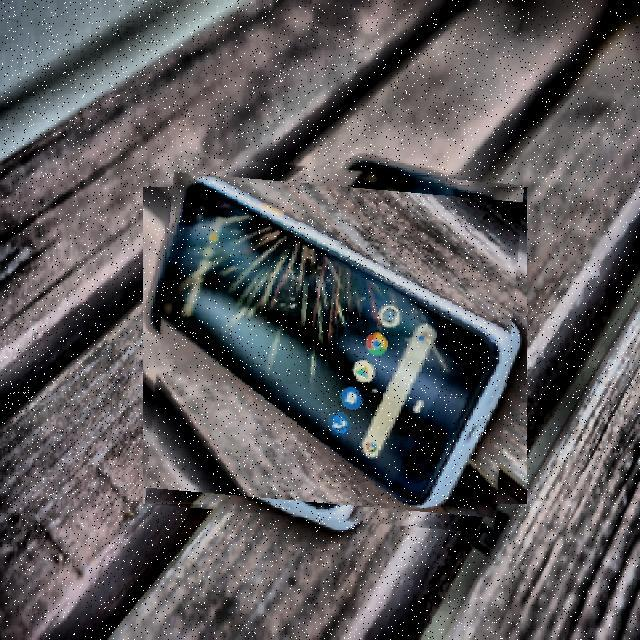Phone: (152, 162, 518, 528)
